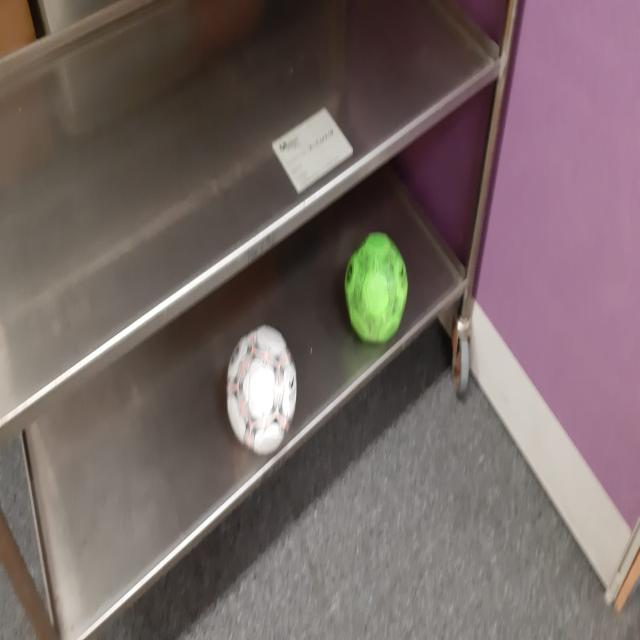ball: (227, 326, 298, 454), (345, 232, 409, 346)
